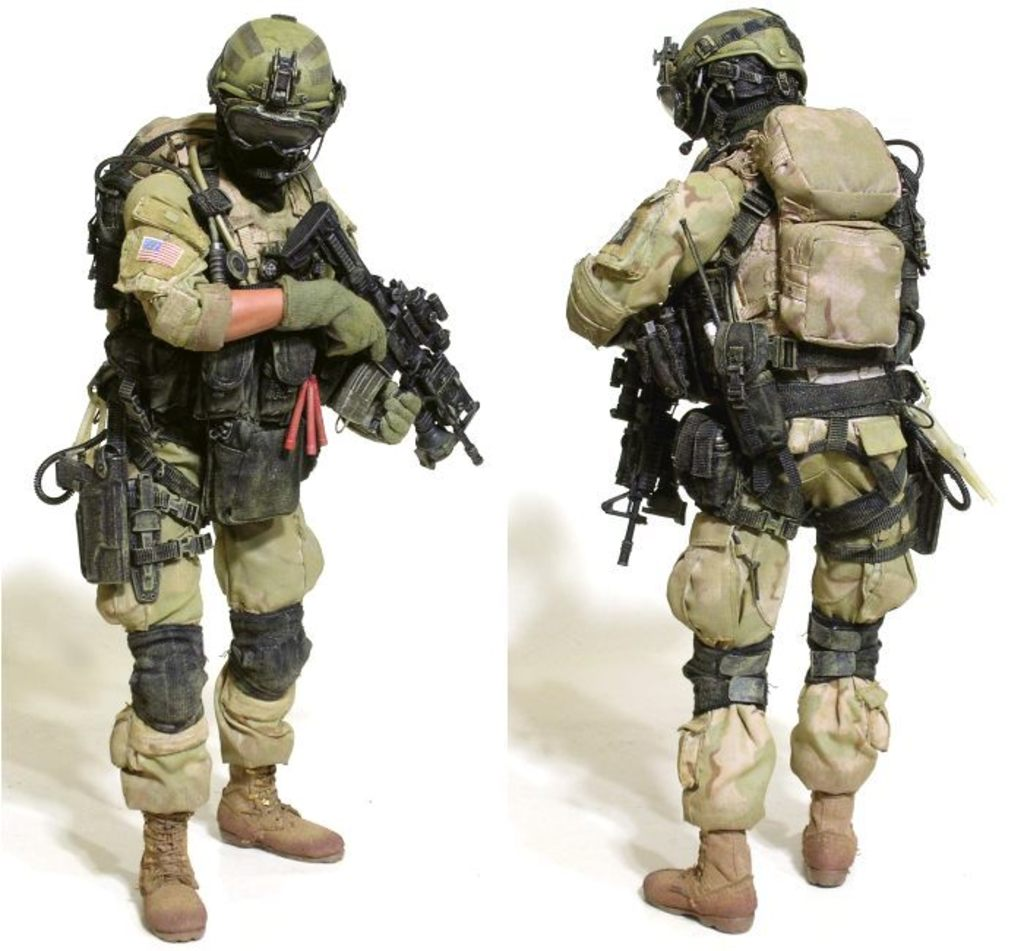Person: (567, 5, 918, 934), (77, 14, 421, 942)
